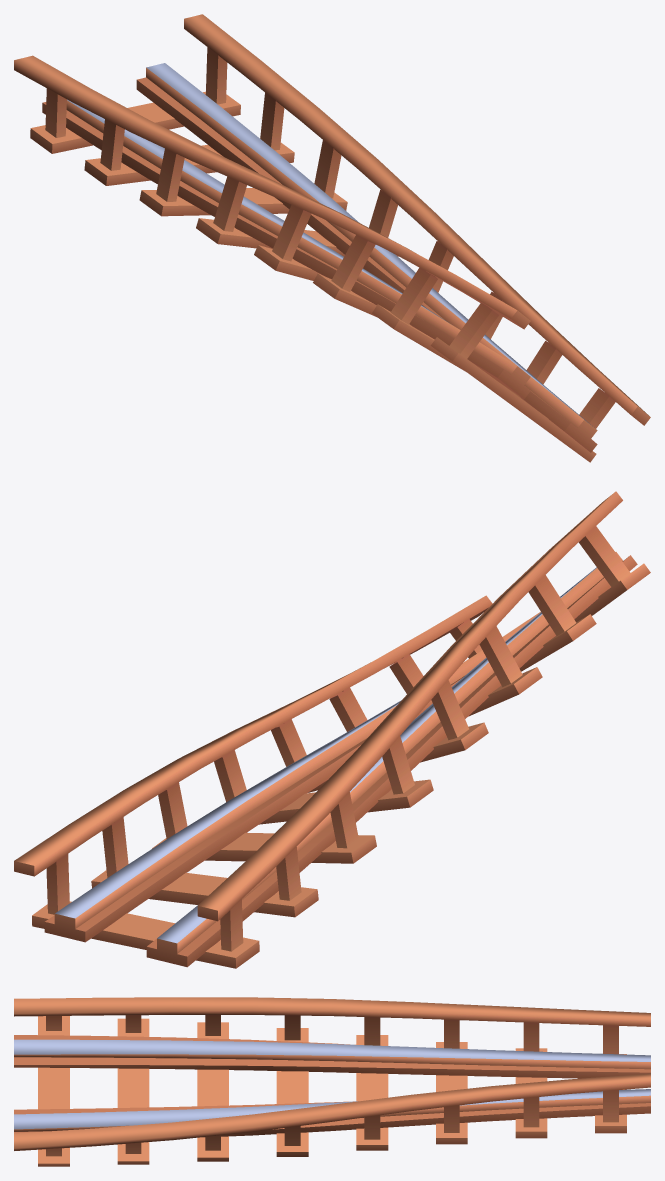
The model's file is coaster-wood-straight-skew-left.glb.
3 views of the same model, one above another, from view 1: azimuth 30°, elevation 25°; view 2: azimuth 150°, elevation 25°; view 3: azimuth 270°, elevation 25° (orthographic). The views are drawn at different scales.
Parts seen in each view (by area): view 1: coaster-wood-straight-skew-left; view 2: coaster-wood-straight-skew-left; view 3: coaster-wood-straight-skew-left.
Part boxes in pixels (bbox=[...]): coaster-wood-straight-skew-left: bbox=[14, 14, 650, 462]; coaster-wood-straight-skew-left: bbox=[14, 491, 650, 968]; coaster-wood-straight-skew-left: bbox=[14, 997, 650, 1166].
Bounding box in the file's own units: 1.09 × 0.9434 × 4.
1 material, 1 textured.
